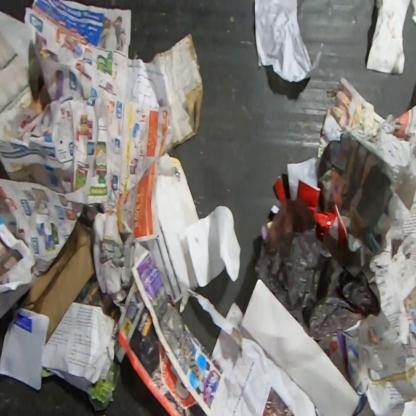cardboard: (19, 219, 96, 344), (147, 32, 204, 153), (169, 155, 200, 225)
rigid_plastic: (272, 156, 336, 242)
soft_plastic: (254, 199, 381, 341)
